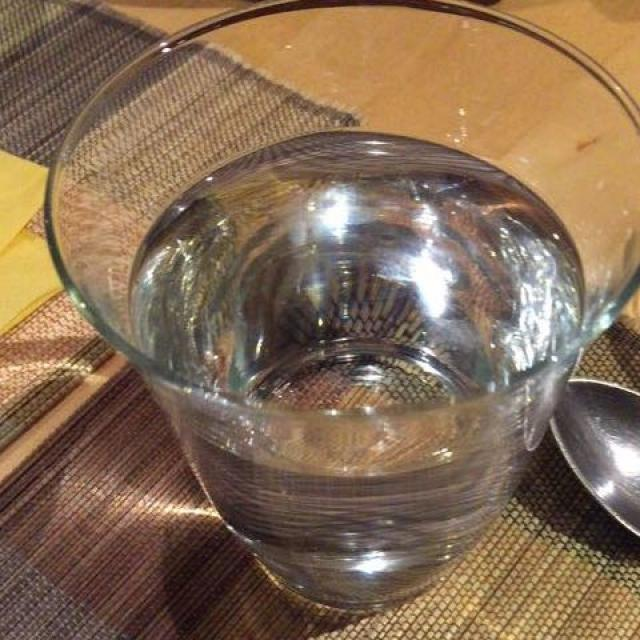water: (133, 126, 592, 603)
